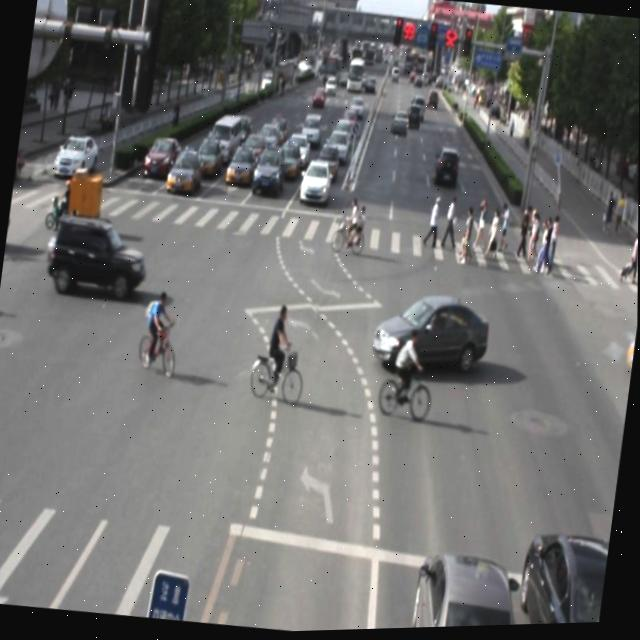car: (371, 287, 492, 379), (510, 527, 611, 628), (407, 548, 529, 630), (46, 208, 152, 302)
